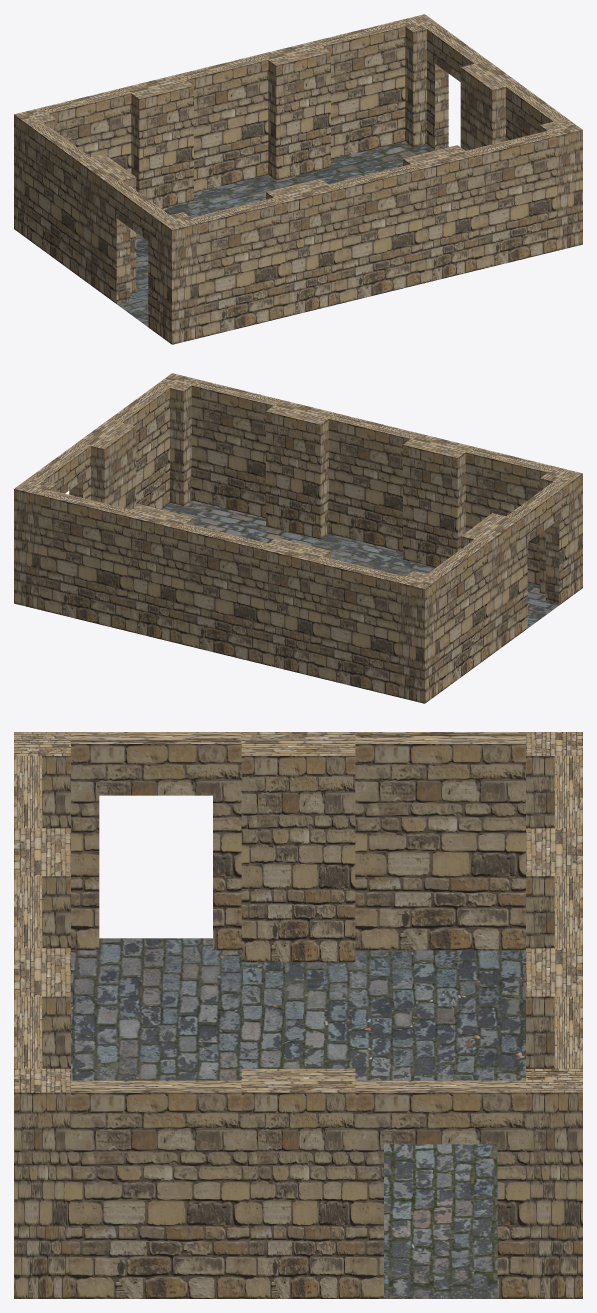
File: 1_3boxSwitcher.fbx
3 renders of one model, top to bottom at view 1: azimuth 30°, elevation 25°; view 2: azimuth 150°, elevation 25°; view 3: azimuth 270°, elevation 25°, orthographic. The views are drawn at different scales.
Visible parts, largest first — view 1: Cube_16, Plane; view 2: Cube_16, Plane; view 3: Cube_16, Plane.
Part boxes in pixels (x1,y1,x2,y2): Cube_16: [14, 14, 582, 344]; Plane: [117, 141, 448, 326]; Cube_16: [14, 373, 582, 703]; Plane: [161, 500, 558, 627]; Cube_16: [14, 732, 582, 1298]; Plane: [71, 938, 525, 1298].
Bounding box in the file's own units: 30 × 8 × 20.
2 materials, 2 textured.
